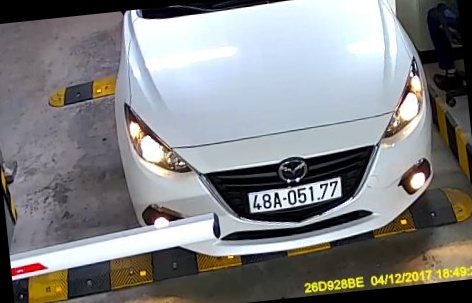plate: (243, 176, 349, 210)
